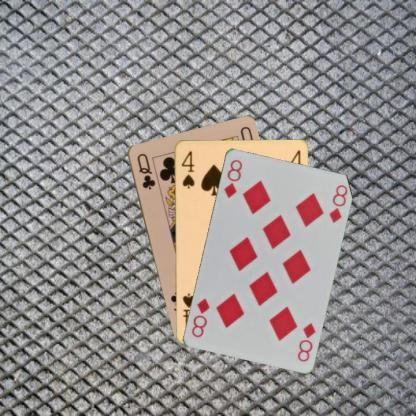4s: (178, 148, 196, 190)
8d: (221, 156, 244, 199), (294, 319, 316, 363)
Qc: (134, 150, 157, 191)
